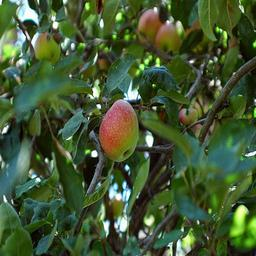apple: (97, 98, 138, 161), (136, 8, 164, 45), (155, 21, 181, 54), (178, 107, 198, 125)
